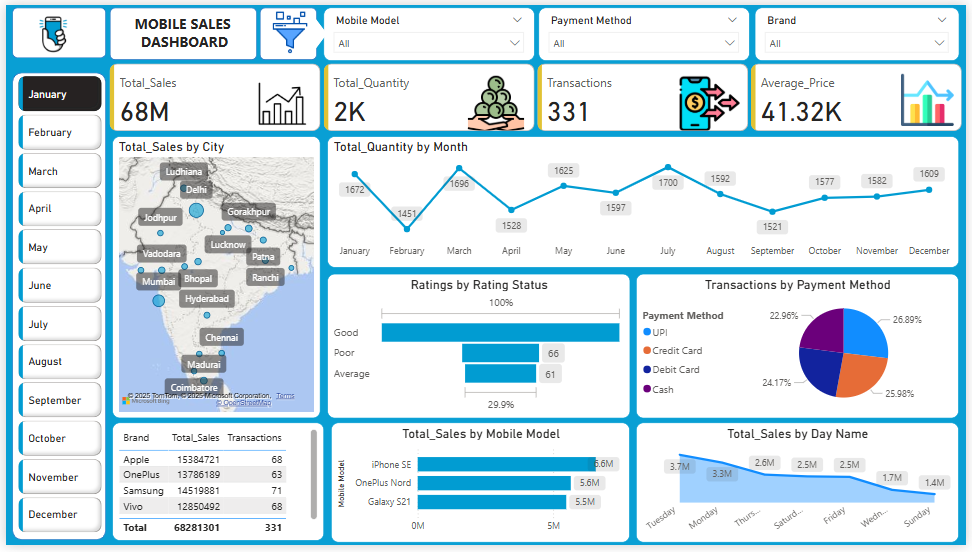

The dashboard page shown, as its layout file describes it:
{"tool":"powerbi","page":{"name":"Dashboard","canvas":[1280,720],"ordinal":0},"visuals":[{"type":"shape","box":[7.5,3.8,125,67.5],"z":0},{"type":"image","box":[23.8,3.8,78.8,71.2],"z":1000},{"type":"shape","box":[7.5,73.8,125,155],"z":2000},{"type":"shape","box":[7.5,232.5,125,481.2],"z":3000},{"type":"advancedSlicerVisual","fields":{"Values":["Custom_Calendar.Date.Variation.Date Hierarchy.Month"]},"box":[11.2,241.2,110,472.5],"z":4000},{"type":"cardVisual","fields":{"Data":["Sales_Data.Total_Sales","Sales_Data.Total_Quantity","Sales_Data.Transactions","Sales_Data.Average_Price"]},"box":[132.5,73.8,1147.5,100],"z":5000},{"type":"slicer","fields":{"Values":["Sales_Data.Mobile Model"]},"box":[423.8,3.8,281.2,71.2],"z":6000},{"type":"slicer","fields":{"Values":["Sales_Data.Payment Method"]},"box":[710,3.8,281.2,71.2],"z":7000},{"type":"slicer","fields":{"Values":["Sales_Data.Brand"]},"box":[997.5,3.8,272.5,71.2],"z":8000},{"type":"shape","box":[338.8,3.8,76.2,70],"z":9000},{"type":"image","box":[337.5,3.8,81.2,66.2],"z":10000},{"type":"shape","box":[397.5,17.5,30,40],"z":11000},{"type":"shape","box":[137.5,3.8,196.2,70],"z":12000},{"type":"textbox","box":[156.2,6.2,162.5,63.8],"z":13000},{"type":"map","fields":{"Category":["Sales_Data.City"],"Size":["Sales_Data.Total_Sales"]},"box":[141.2,175,277.5,376.2],"z":14000},{"type":"lineChart","fields":{"Y":["Sales_Data.Total_Quantity"],"Category":["Custom_Calendar.Date.Variation.Date Hierarchy.Month"]},"box":[427.5,175,842.5,175],"z":15000},{"type":"funnel","title":"Ratings by Rating Status","fields":{"Y":["Sum(Sales_Data.Customer Ratings)"],"Category":["Sales_Data.Rating Status"]},"box":[427.5,358.8,403.8,192.5],"z":16000},{"type":"pieChart","fields":{"Y":["Sales_Data.Transactions"],"Category":["Sales_Data.Payment Method"]},"box":[840,358.8,430,192.5],"z":17000},{"type":"clusteredBarChart","fields":{"Y":["Sales_Data.Total_Sales"],"Category":["Sales_Data.Mobile Model"]},"box":[433.8,556.2,398.8,160],"z":18000},{"type":"areaChart","fields":{"Y":["Sales_Data.Total_Sales"],"Category":["Custom_Calendar.Day Name"]},"box":[840,556.2,430,160],"z":19000},{"type":"tableEx","fields":{"Values":["Sales_Data.Brand","Sales_Data.Total_Sales","Sales_Data.Transactions"]},"box":[141.2,556.2,282.5,157.5],"z":20000},{"type":"pageNavigator","box":[15,88.8,110,130],"z":21000}]}

Visuals, with their boxes in screenshot pixels (x1, y1, x2, y2), scaled from the page's 1280x720 canvas onto the 972x552 screenshot:
shape: <bbox>6, 3, 101, 55</bbox>
image: <bbox>18, 3, 78, 58</bbox>
shape: <bbox>6, 57, 101, 175</bbox>
shape: <bbox>6, 178, 101, 547</bbox>
advancedSlicerVisual - Custom_Calendar.Date.Variation.Date Hierarchy.Month: <bbox>9, 185, 92, 547</bbox>
cardVisual - Sales_Data.Total_Sales x Sales_Data.Total_Quantity: <bbox>101, 57, 971, 133</bbox>
slicer - Sales_Data.Mobile Model: <bbox>322, 3, 535, 58</bbox>
slicer - Sales_Data.Payment Method: <bbox>539, 3, 753, 58</bbox>
slicer - Sales_Data.Brand: <bbox>757, 3, 964, 58</bbox>
shape: <bbox>257, 3, 315, 57</bbox>
image: <bbox>256, 3, 318, 54</bbox>
shape: <bbox>302, 13, 325, 44</bbox>
shape: <bbox>104, 3, 253, 57</bbox>
textbox: <bbox>119, 5, 242, 54</bbox>
map - Sales_Data.City x Sales_Data.Total_Sales: <bbox>107, 134, 318, 423</bbox>
lineChart - Sales_Data.Total_Quantity x Custom_Calendar.Date.Variation.Date Hierarchy.Month: <bbox>325, 134, 964, 268</bbox>
"Ratings by Rating Status" funnel: <bbox>325, 275, 631, 423</bbox>
pieChart - Sales_Data.Transactions x Sales_Data.Payment Method: <bbox>638, 275, 964, 423</bbox>
clusteredBarChart - Sales_Data.Total_Sales x Sales_Data.Mobile Model: <bbox>329, 426, 632, 549</bbox>
areaChart - Sales_Data.Total_Sales x Custom_Calendar.Day Name: <bbox>638, 426, 964, 549</bbox>
tableEx - Sales_Data.Brand x Sales_Data.Total_Sales: <bbox>107, 426, 322, 547</bbox>
pageNavigator: <bbox>11, 68, 95, 168</bbox>
